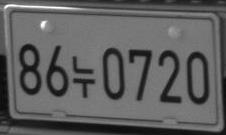0: (185, 49, 210, 105), (100, 46, 125, 100)
2: (157, 48, 182, 103)
6: (45, 44, 69, 97)
7: (127, 48, 152, 102)
8: (18, 42, 42, 96)
누: (71, 55, 95, 98)
